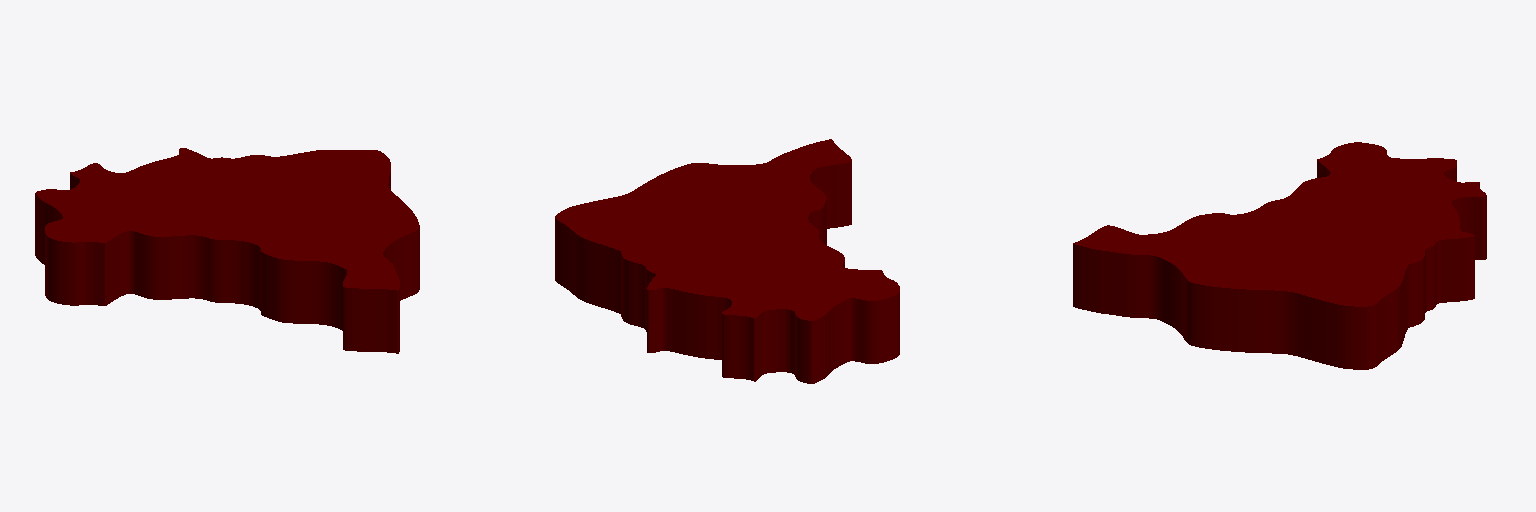
3 renders of one model, left to right at view 1: azimuth 30°, elevation 25°; view 2: azimuth 150°, elevation 25°; view 3: azimuth 270°, elevation 25°, orthographic.
Visible parts, largest first — view 1: Curve.017_path4210; view 2: Curve.017_path4210; view 3: Curve.017_path4210.
Boxes of the visible parts, x1,y1,x2,y2 form: Curve.017_path4210: [35, 148, 419, 353]; Curve.017_path4210: [555, 139, 899, 383]; Curve.017_path4210: [1073, 142, 1486, 369].
Size of the model in its own units: 0.5592 by 0.1 by 0.5942.